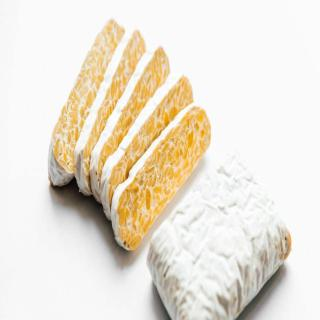Tempe: (147, 148, 293, 319), (111, 103, 212, 253), (48, 18, 126, 189), (90, 46, 171, 205)
